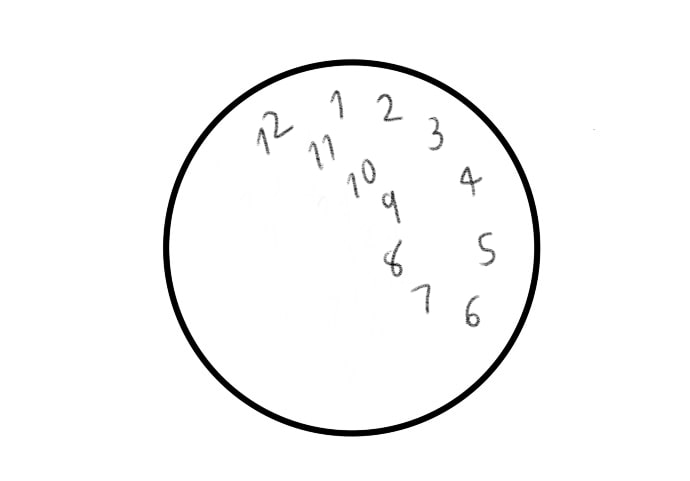eight: (380, 241, 405, 279)
eleven: (307, 133, 336, 170)
five: (476, 231, 496, 267)
four: (457, 162, 483, 199)
nine: (379, 186, 402, 229)
one: (328, 86, 348, 123)
seven: (411, 280, 433, 317)
six: (463, 288, 482, 336)
ten: (344, 158, 376, 201)
three: (425, 113, 446, 155)
twelve: (257, 104, 294, 158)
two: (376, 89, 403, 123)
